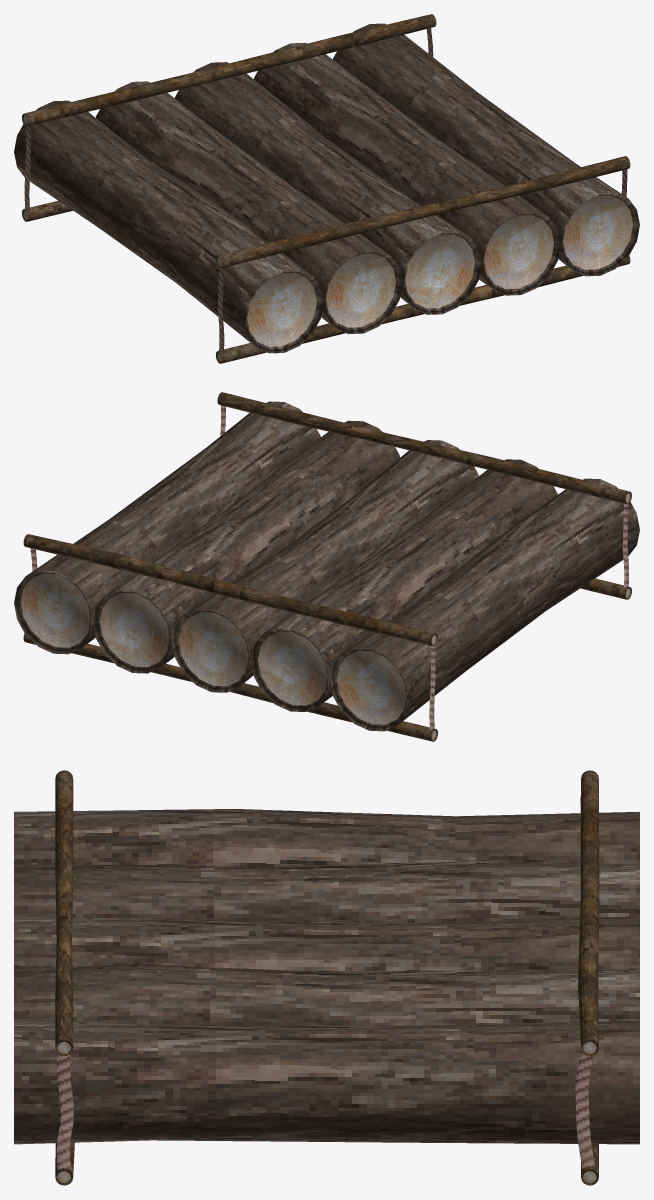
Rendered from raft.glb.
3 renders of one model, top to bottom at view 1: azimuth 30°, elevation 25°; view 2: azimuth 150°, elevation 25°; view 3: azimuth 270°, elevation 25°, orthographic. The views are drawn at different scales.
Visible parts, largest first — view 1: Cylinder.003, Cylinder.002, Cylinder.001, Cylinder.004, Cylinder, Cylinder.005, Cylinder.006, Cylinder.008, Cylinder.007; view 2: Cylinder.003, Cylinder.002, Cylinder.001, Cylinder.004, Cylinder, Cylinder.005, Cylinder.006, Cylinder.007, Cylinder.008; view 3: Cylinder.004, Cylinder.001, Cylinder.002, Cylinder.003, Cylinder, Cylinder.005, Cylinder.006, Empty.002, Empty.001.
Part boxes in pixels (box(x1,y1,x2,y2)): Cylinder.003: box(14, 100, 323, 353); Cylinder.002: box(254, 42, 560, 295); Cylinder.001: box(95, 81, 402, 334); Cylinder.004: box(333, 23, 639, 276); Cylinder: box(175, 62, 481, 314); Cylinder.005: box(22, 14, 436, 126); Cylinder.006: box(215, 156, 630, 268); Cylinder.008: box(216, 255, 630, 363); Cylinder.007: box(22, 200, 72, 221); Cylinder.003: box(330, 478, 639, 731); Cylinder.002: box(93, 420, 400, 673); Cylinder.001: box(251, 459, 557, 711); Cylinder.004: box(14, 401, 320, 654); Cylinder: box(172, 440, 478, 692); Cylinder.005: box(23, 534, 437, 646); Cylinder.006: box(217, 392, 631, 504); Cylinder.007: box(23, 633, 437, 741); Cylinder.008: box(580, 578, 631, 599); Cylinder.004: box(14, 1021, 639, 1144); Cylinder.001: box(14, 861, 639, 923); Cylinder.002: box(14, 964, 639, 1025); Cylinder.003: box(14, 809, 639, 866); Cylinder: box(14, 916, 639, 971); Cylinder.005: box(578, 770, 599, 1056); Cylinder.006: box(55, 770, 73, 1056); Empty.002: box(56, 1053, 73, 1169); Empty.001: box(575, 1050, 594, 1169).
Bounding box in the file's own units: 11.37 × 2.94 × 11.14.
Materials: 6 (6 with a texture image).
